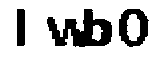0: (117, 5, 151, 53)
b: (83, 5, 112, 48)
l: (11, 4, 32, 53)
w: (43, 17, 86, 50)
